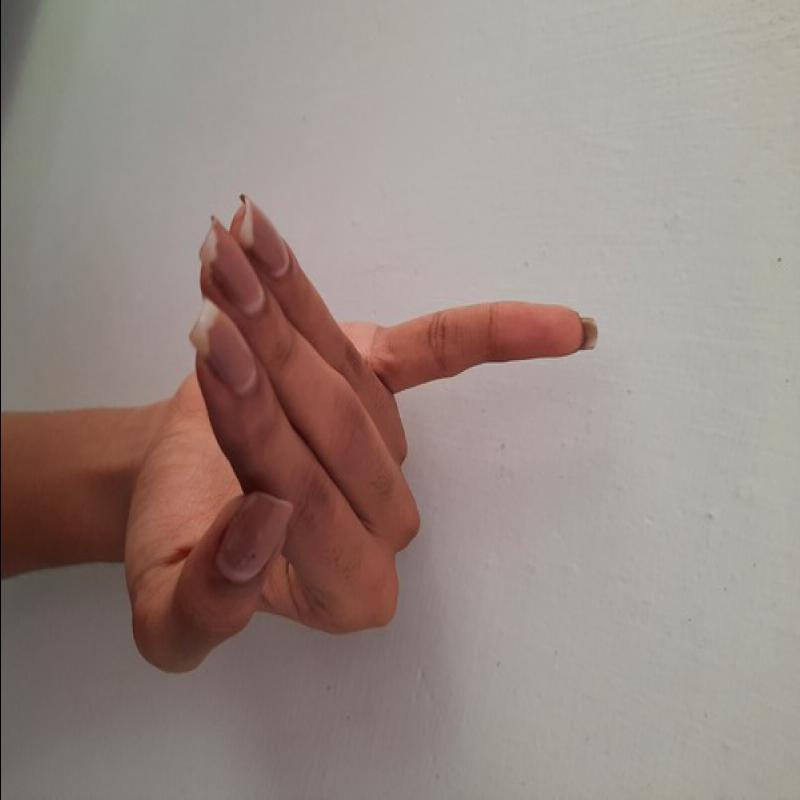Kartharee Mukham: (111, 180, 610, 696)
